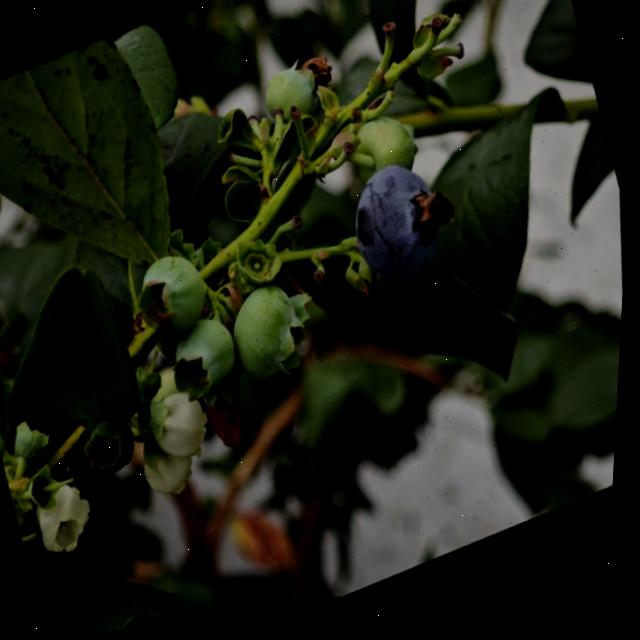RipeBlueBerry: (333, 150, 472, 319)
UnripeBlueBerry: (219, 272, 333, 406), (124, 244, 225, 358), (161, 312, 256, 420)
